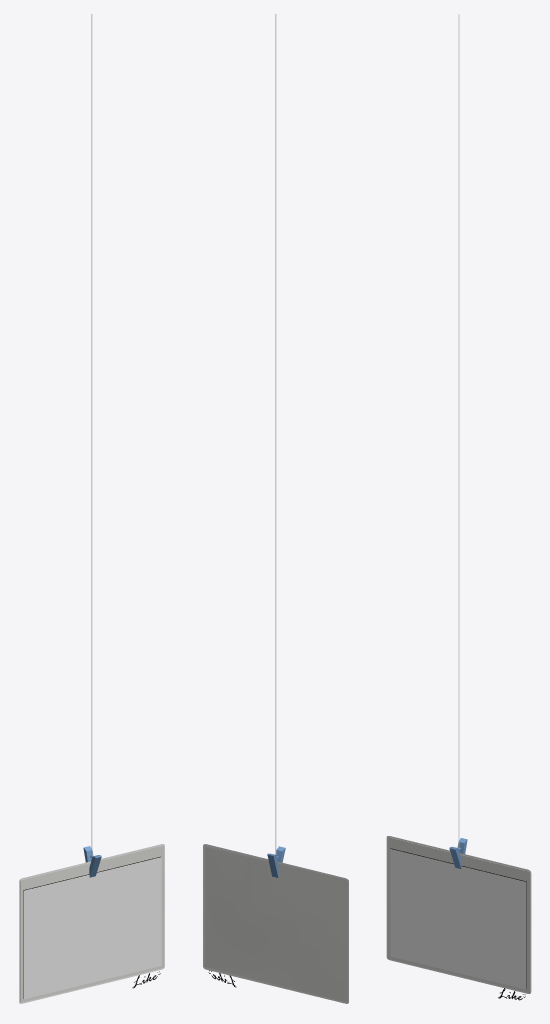
Rendered from Left.FBX.
3 views of the same model, side by side, from view 1: azimuth 30°, elevation 25°; view 2: azimuth 150°, elevation 25°; view 3: azimuth 330°, elevation 25° (orthographic).
Parts seen in each view (by area): view 1: LoadFlash, PhotoFrame, LeftLine, BoderGlow; view 2: PhotoFrame, LeftLine, BoderGlow; view 3: LoadFlash, PhotoFrame, LeftLine, BoderGlow.
Boxes of the visible parts, bbox=[...] form: LoadFlash: bbox=[23, 857, 161, 999]; PhotoFrame: bbox=[20, 845, 163, 1002]; LeftLine: bbox=[91, 14, 92, 856]; BoderGlow: bbox=[19, 844, 164, 1003]; PhotoFrame: bbox=[204, 846, 347, 1002]; LeftLine: bbox=[275, 14, 276, 854]; BoderGlow: bbox=[203, 844, 348, 1003]; LoadFlash: bbox=[390, 849, 526, 989]; PhotoFrame: bbox=[387, 837, 530, 992]; LeftLine: bbox=[458, 14, 459, 848]; BoderGlow: bbox=[386, 836, 531, 993].
Size of the model in its own units: 8.15 by 49.65 by 1.1.
